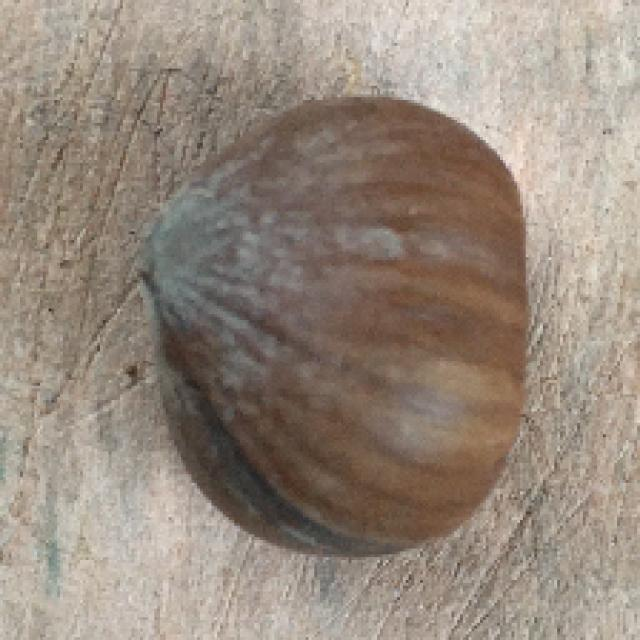qualityHazelnut: (138, 97, 540, 559)
